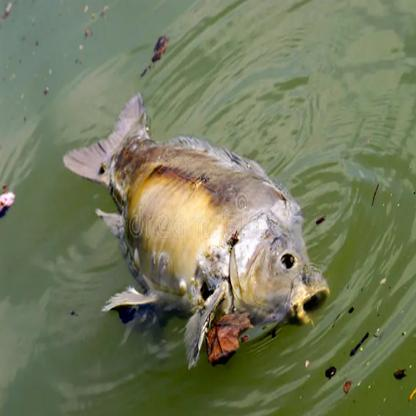deceased fish: (62, 91, 331, 369)
